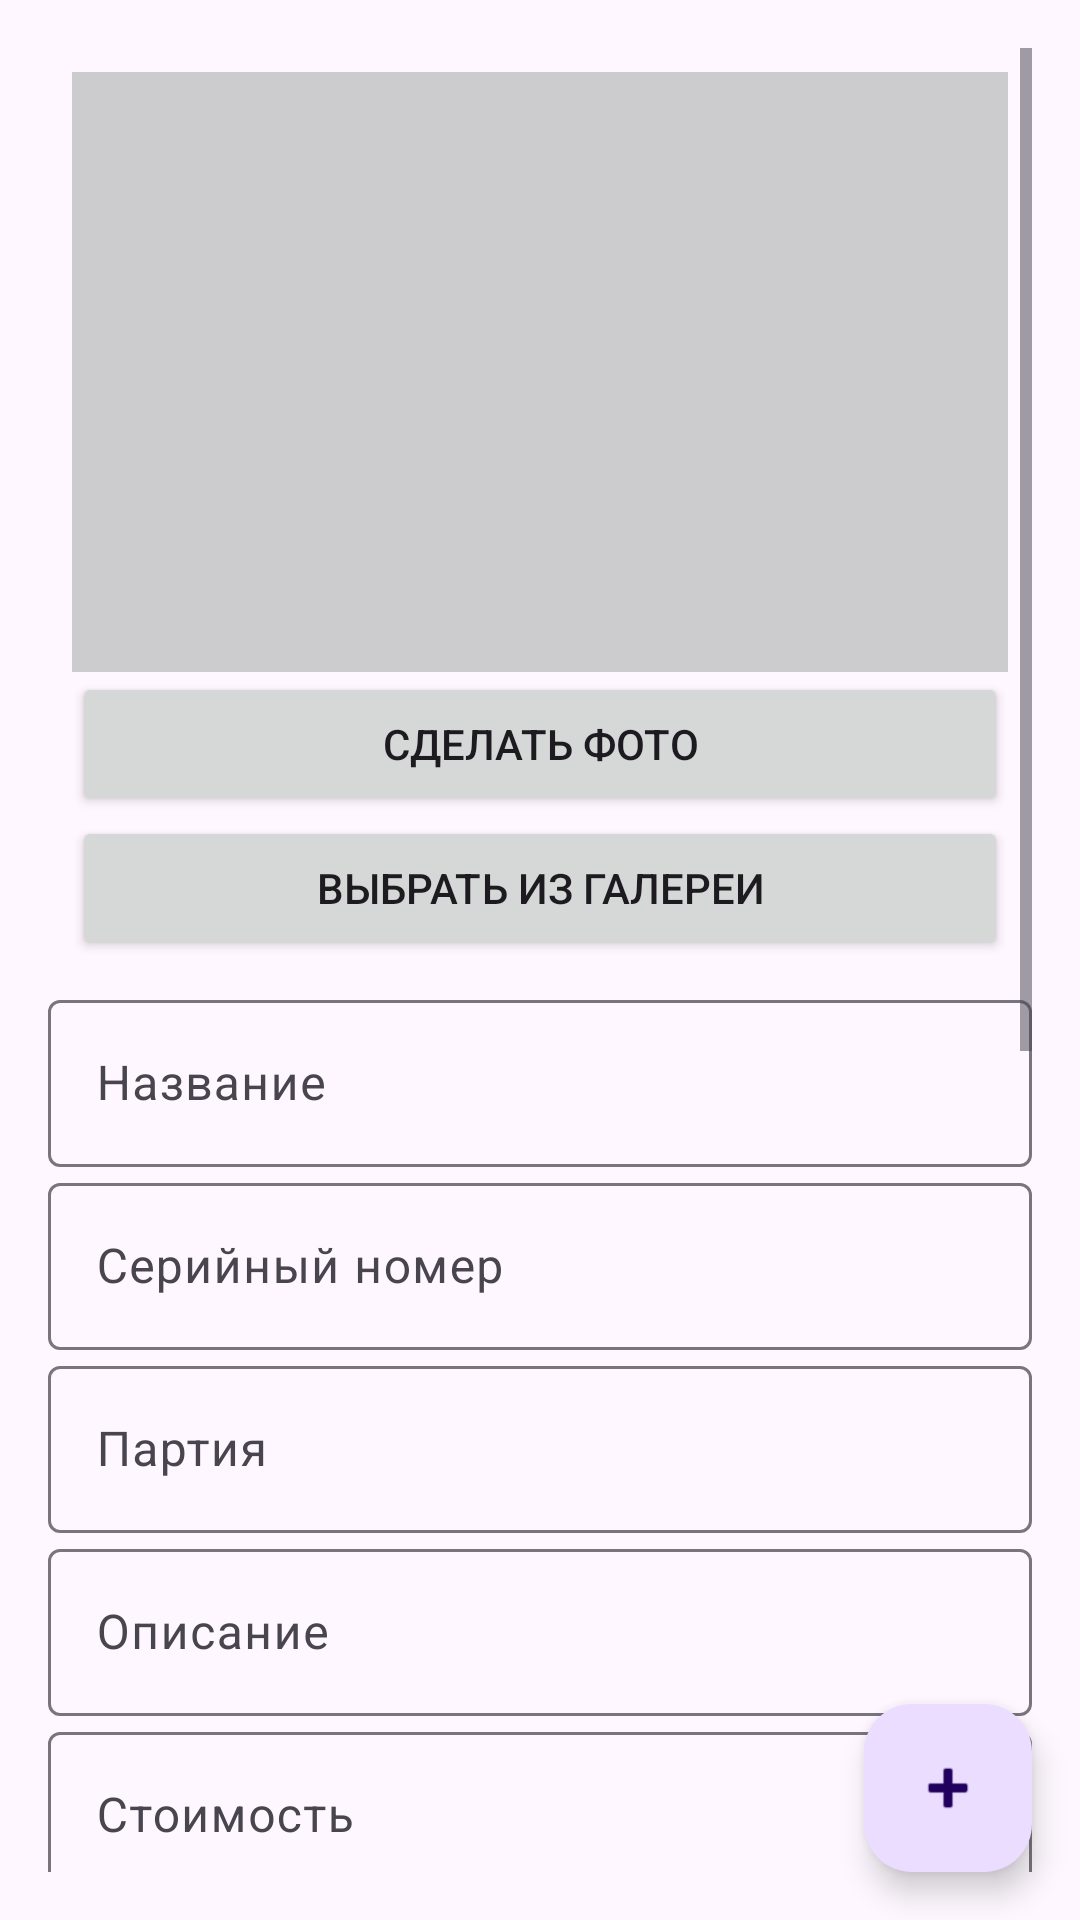

Named icons in this screenshot (1080px x 1920px) and their bounding boxes, (x1, y1, x2, y2):
Add Client: (864, 1704, 1032, 1872)
